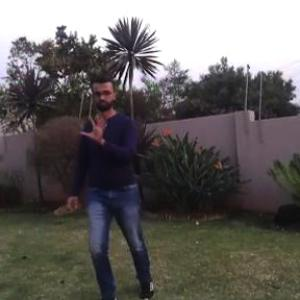follow_hand: (76, 107, 118, 148)
